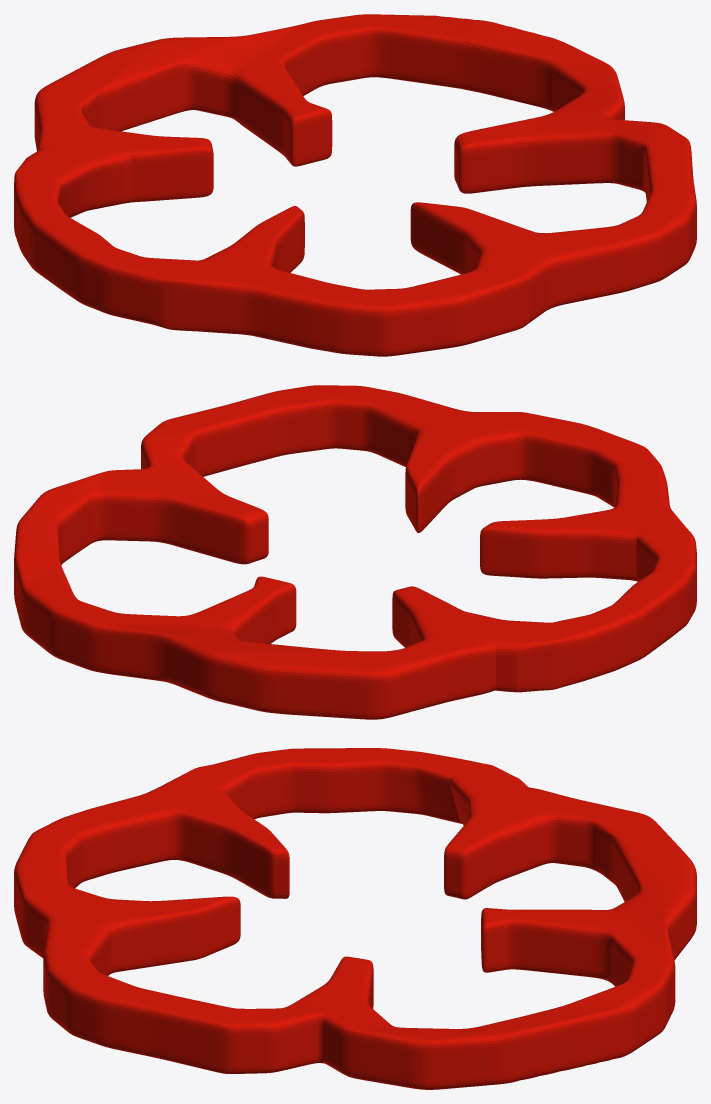
File: bulg_pepper.fbx
3 renders of one model, top to bottom at view 1: azimuth 30°, elevation 25°; view 2: azimuth 150°, elevation 25°; view 3: azimuth 270°, elevation 25°, orthographic. The views are drawn at different scales.
Visible parts, largest first — view 1: Cube; view 2: Cube; view 3: Cube.
Boxes of the visible parts, x1,y1,x2,y2 form: Cube: [14, 14, 696, 356]; Cube: [14, 385, 696, 719]; Cube: [14, 748, 696, 1089].
Bounding box in the file's own units: 624 × 59.85 × 618.
